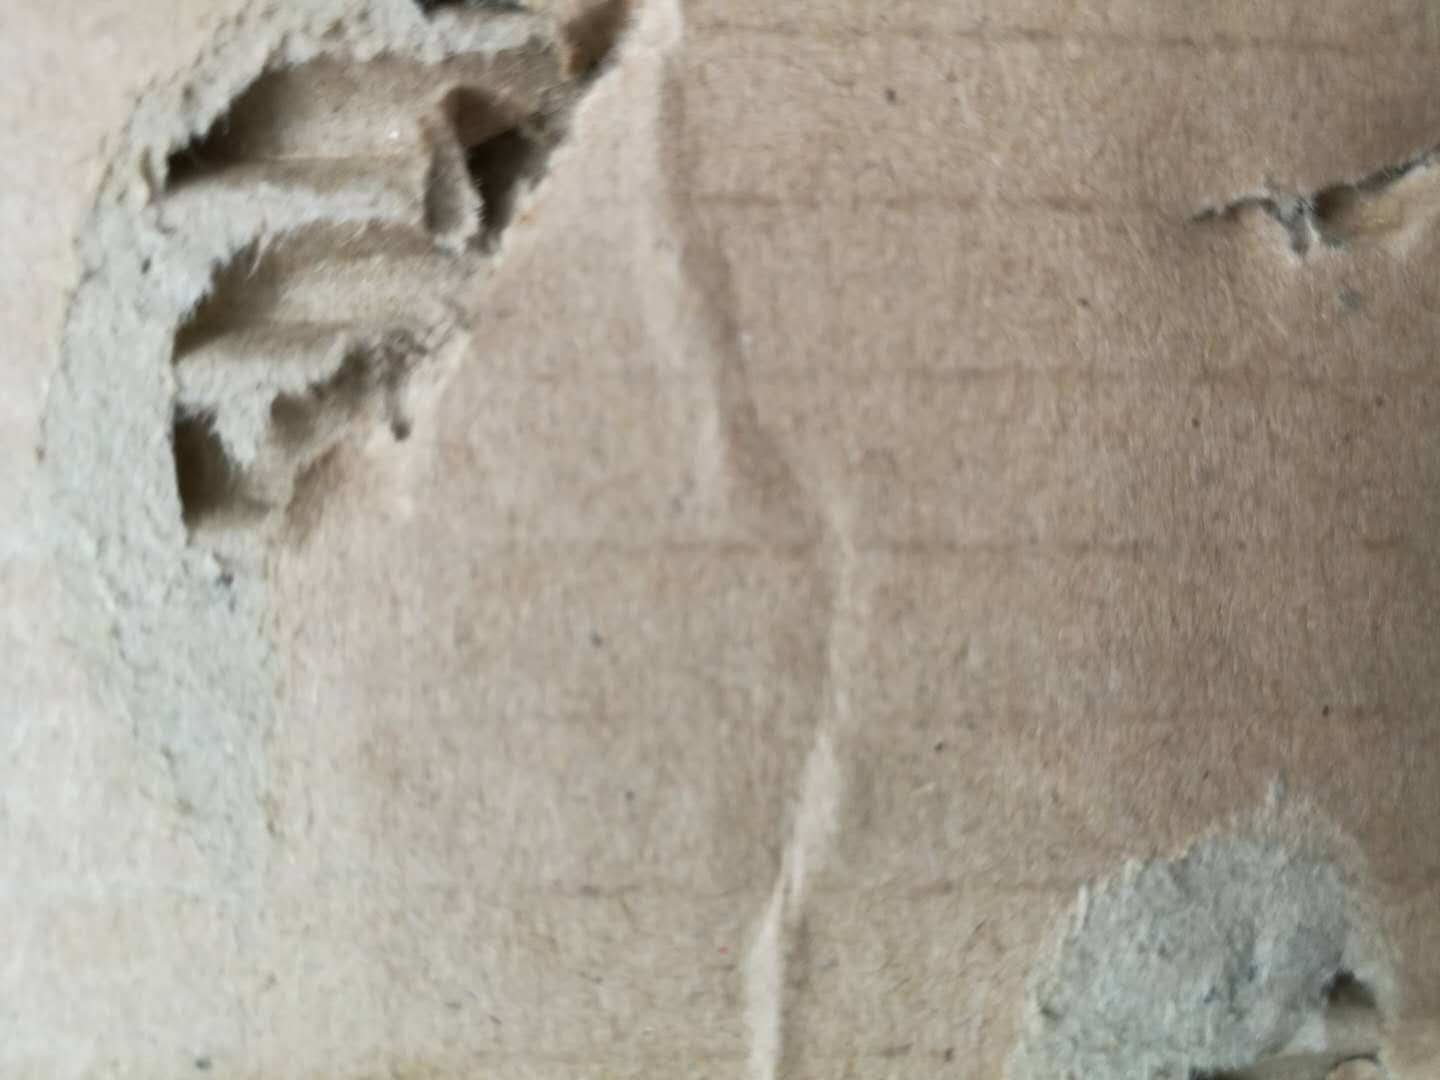defect: (17, 3, 681, 920), (625, 35, 954, 1080), (980, 746, 1439, 1080), (1152, 100, 1440, 324)
